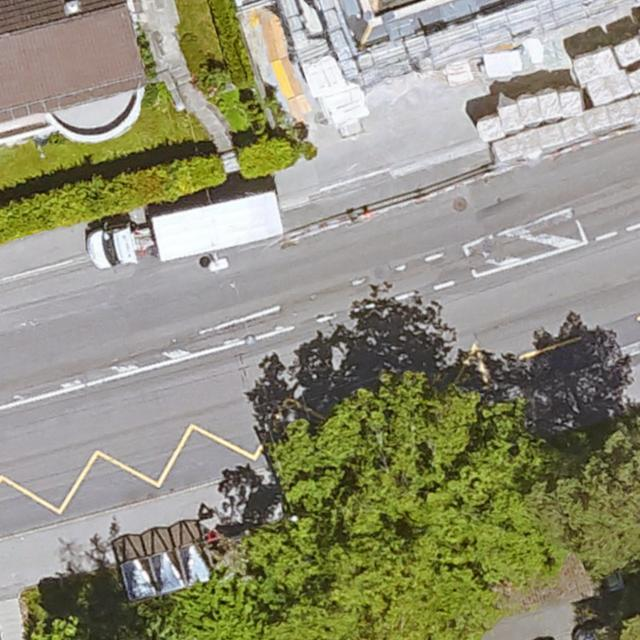tree: (273, 371, 548, 620), (550, 435, 640, 578), (155, 584, 265, 640)
